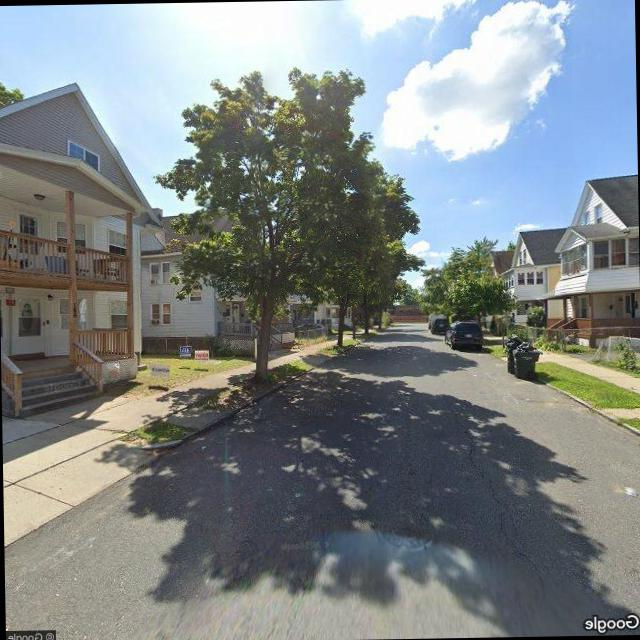pothole: (464, 438, 542, 580)
